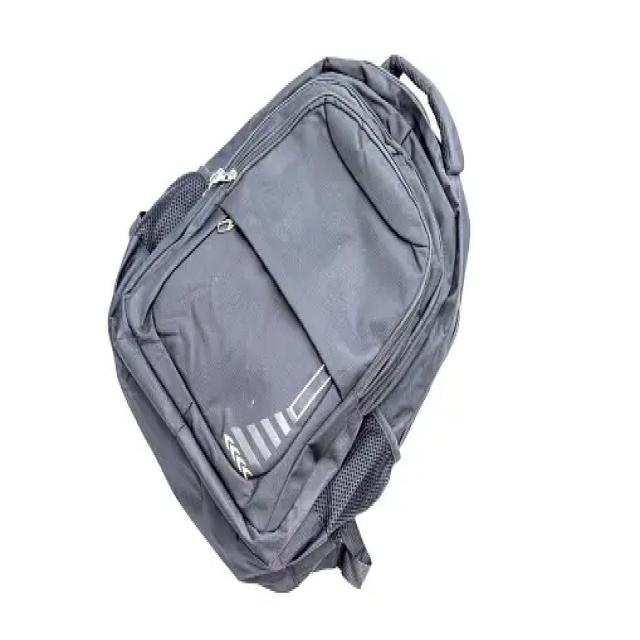backpack: (108, 52, 471, 594)
